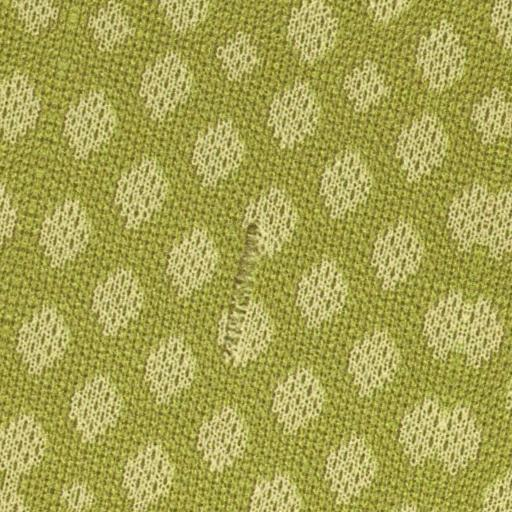slub: (220, 221, 272, 356)
